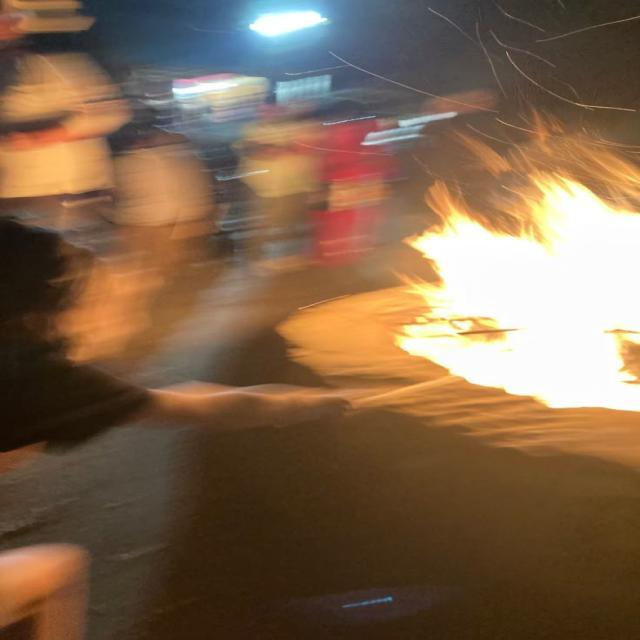fire: (393, 171, 640, 412)
